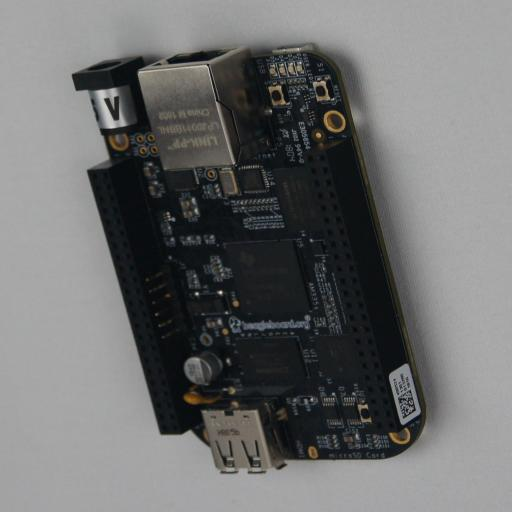Beaglebone Black: (72, 43, 435, 473)
